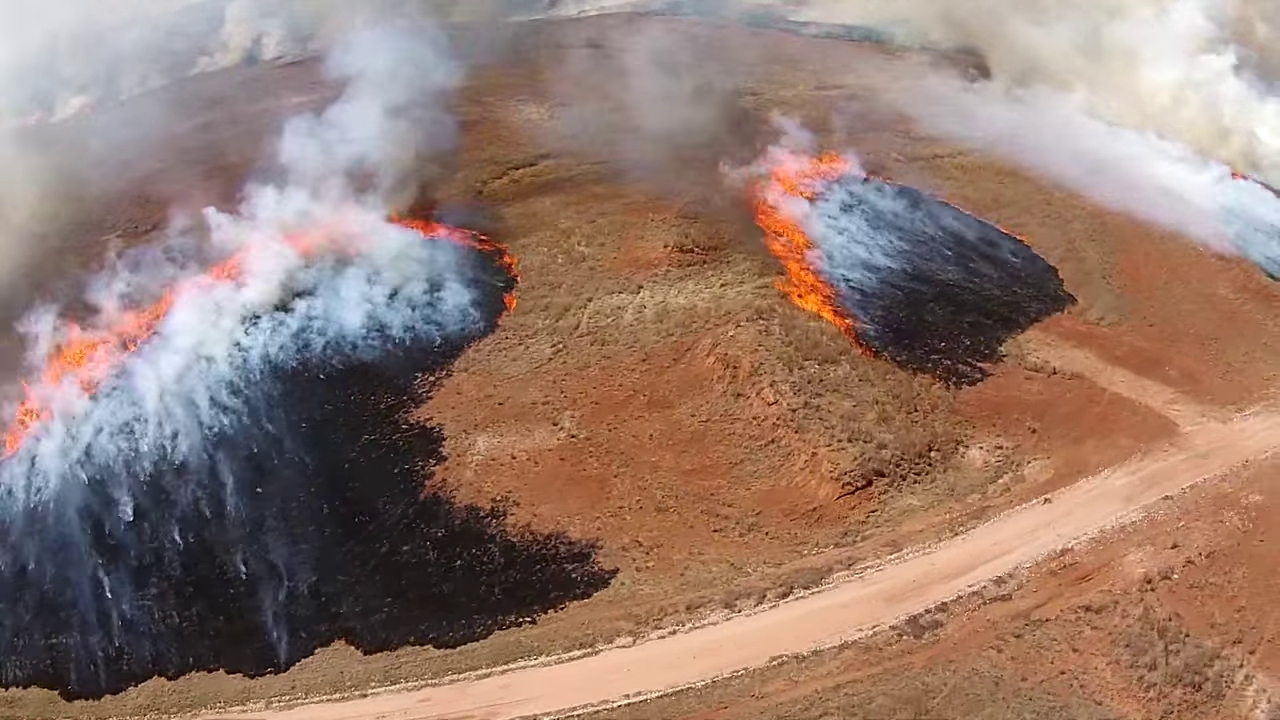forest_fire: (752, 151, 869, 351), (37, 289, 177, 396), (389, 214, 517, 282), (0, 385, 53, 457), (179, 250, 247, 288), (285, 231, 320, 256), (500, 289, 516, 317)
